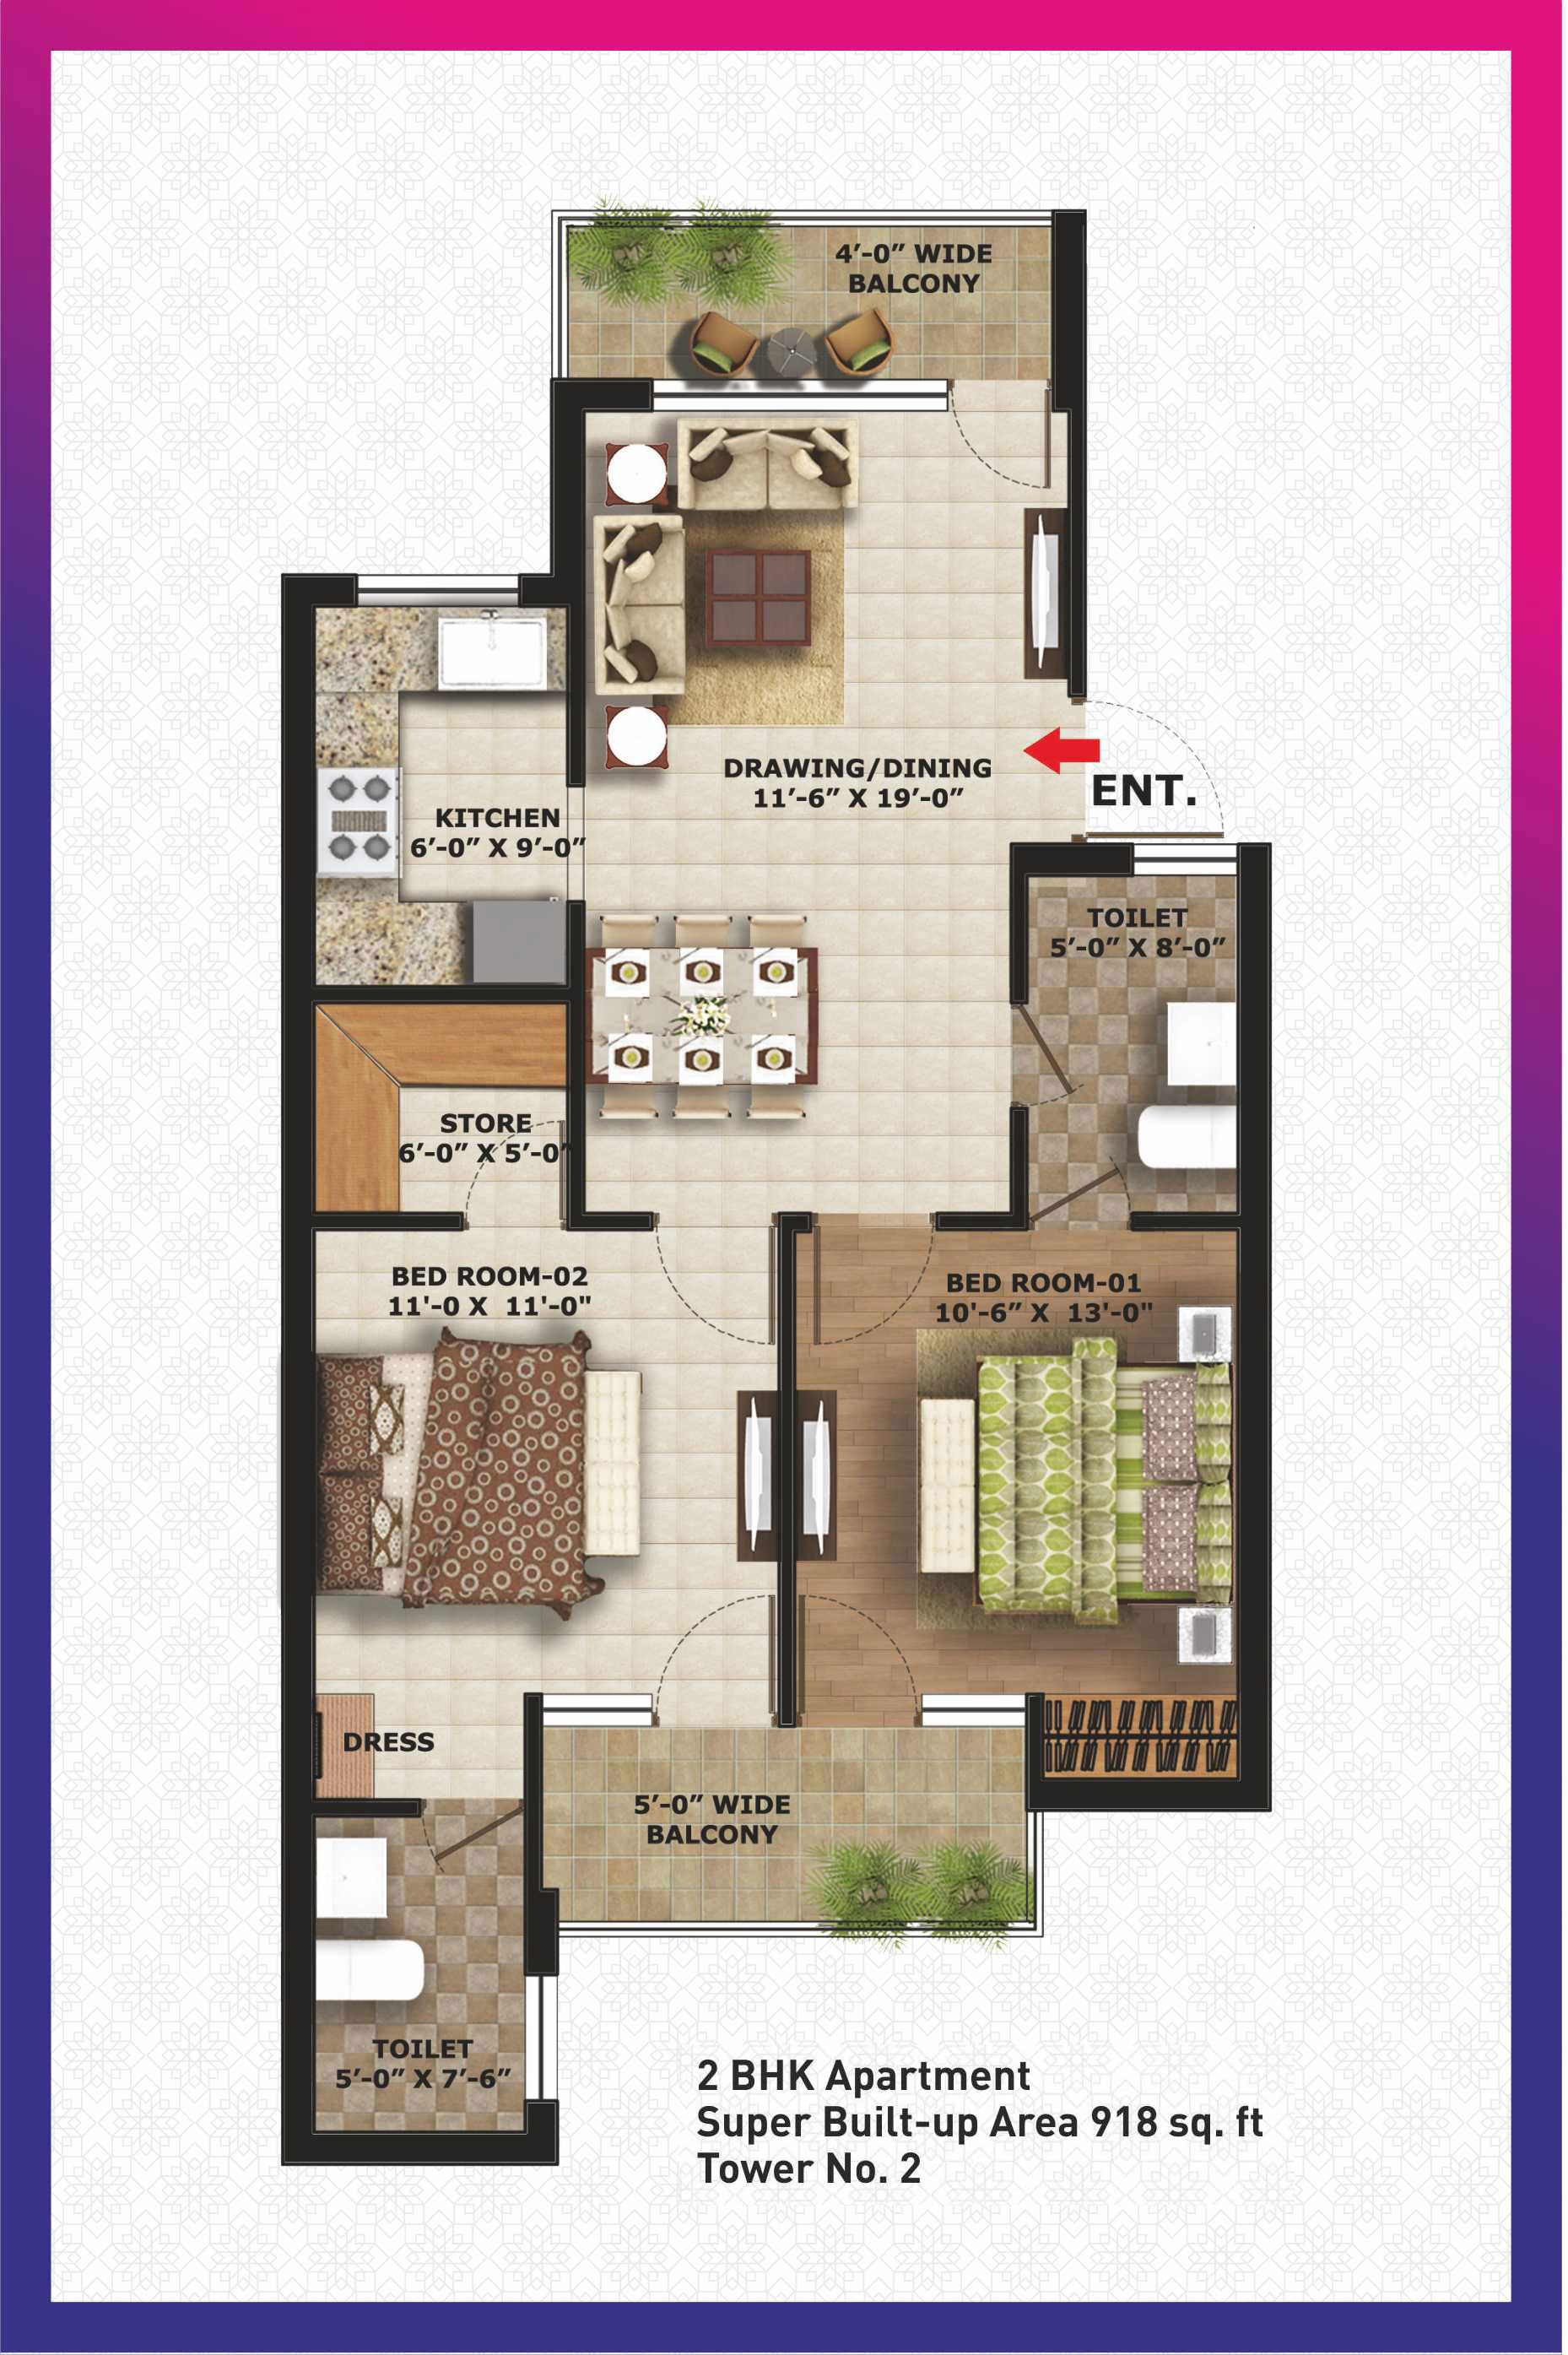window: (649, 376, 950, 413), (352, 570, 525, 612), (523, 1970, 562, 2107), (1131, 842, 1243, 878)
